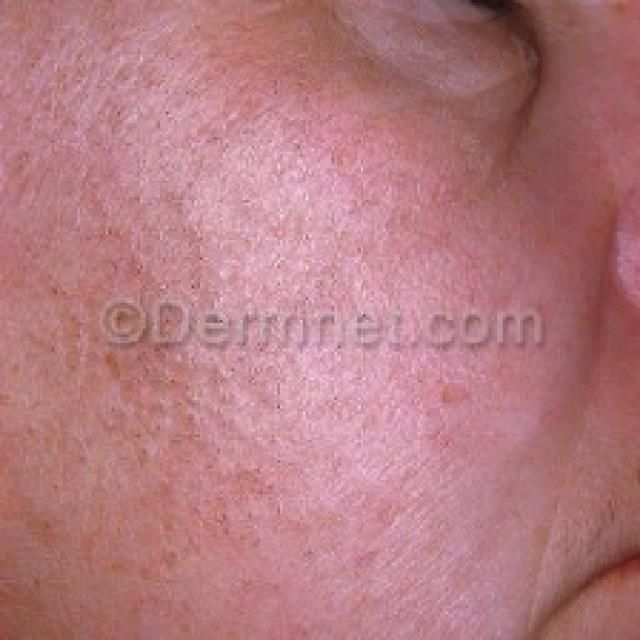Acne: (48, 74, 472, 549)
